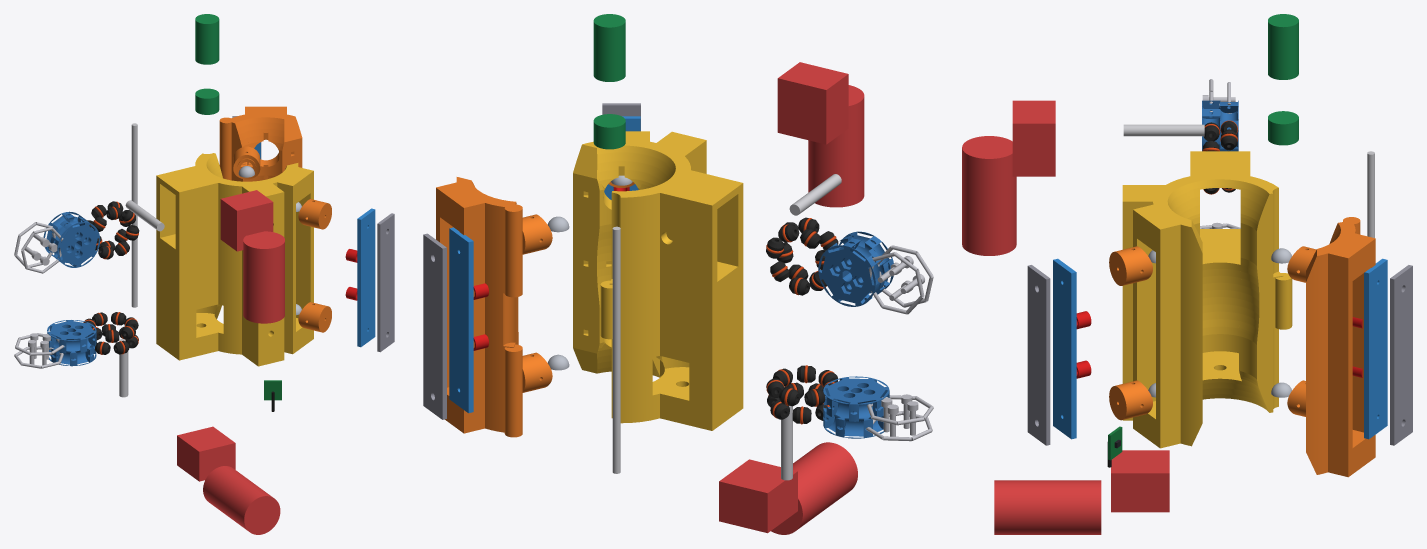
File: cart-hand-exploded-v3.glb
The picture shows the model from 3 angles, left to right: view 1: azimuth 30°, elevation 25°; view 2: azimuth 150°, elevation 25°; view 3: azimuth 270°, elevation 25°; orthographic projection. The views are drawn at different scales.
Visible parts, largest first — view 1: sleeve, jaw, drive_motor, roll_motor, m60_carrier, drive_gearbox, roll_gearbox, m60_cap, drive_wheel_hub, roll_wheel_hub, m60_cups, drive_wheel_rollers (+8 smaller); view 2: sleeve, jaw, drive_gearbox, roll_gearbox, p60_carrier, drive_motor, p60_cap, roll_motor, drive_wheel_hub, roll_wheel_hub, drive_wheel_rollers, roll_wheel_rollers (+9 smaller); view 3: sleeve, jaw, drive_motor, roll_motor, m60_carrier, m60_cap, p60_carrier, p60_cap, roll_gearbox, drive_gearbox, m60_cups, jaw_motor (+7 smaller).
Boxes of the visible parts, x1,y1,x2,y2 form: sleeve: (156, 153, 313, 366); jaw: (219, 106, 302, 181); drive_motor: (243, 231, 284, 323); roll_motor: (203, 466, 280, 534); m60_carrier: (357, 208, 375, 347); drive_gearbox: (220, 190, 273, 251); roll_gearbox: (177, 426, 235, 481); m60_cap: (377, 213, 394, 352); drive_wheel_hub: (43, 211, 100, 267); roll_wheel_hub: (47, 320, 96, 366); m60_cups: (298, 199, 331, 332); drive_wheel_rollers: (87, 201, 139, 259); sleeve: (573, 131, 743, 430); jaw: (436, 177, 522, 437); drive_gearbox: (777, 62, 848, 144); roll_gearbox: (719, 459, 797, 533); p60_carrier: (449, 227, 473, 413); drive_motor: (808, 85, 864, 207); p60_cap: (423, 233, 446, 419); roll_motor: (771, 442, 857, 534); drive_wheel_hub: (818, 231, 893, 306); roll_wheel_hub: (823, 376, 889, 438); drive_wheel_rollers: (766, 217, 838, 295); roll_wheel_rollers: (766, 365, 837, 423); sleeve: (1122, 151, 1292, 448); jaw: (1306, 217, 1375, 477); drive_motor: (962, 136, 1016, 255); roll_motor: (994, 480, 1101, 534); m60_carrier: (1053, 258, 1076, 439); m60_cap: (1027, 265, 1050, 445); p60_carrier: (1364, 258, 1387, 439); p60_cap: (1390, 265, 1412, 445); roll_gearbox: (1111, 450, 1169, 512); drive_gearbox: (1012, 100, 1055, 176); m60_cups: (1109, 246, 1152, 420); jaw_motor: (1268, 14, 1298, 79).
Size of the model in its own units: 246 by 310 by 231.
